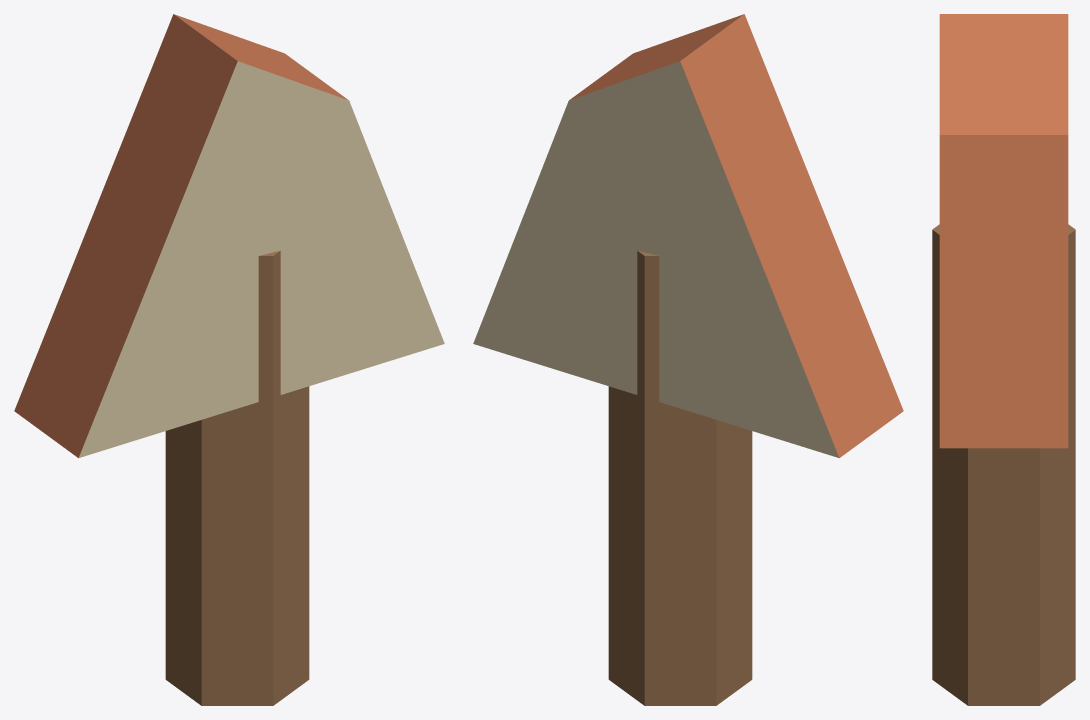
File: ritual_charm.glb
The picture shows the model from 3 angles, left to right: view 1: azimuth 30°, elevation 25°; view 2: azimuth 150°, elevation 25°; view 3: azimuth 270°, elevation 25°; orthographic projection.
Visible parts, largest first — view 1: ritual_charm; view 2: ritual_charm; view 3: ritual_charm.
Part boxes in pixels (x1,y1,x2,y2): ritual_charm: [14, 14, 444, 705]; ritual_charm: [473, 14, 903, 705]; ritual_charm: [932, 14, 1075, 705].
Bounding box in the file's own units: 0.23 × 0.39 × 0.078.
